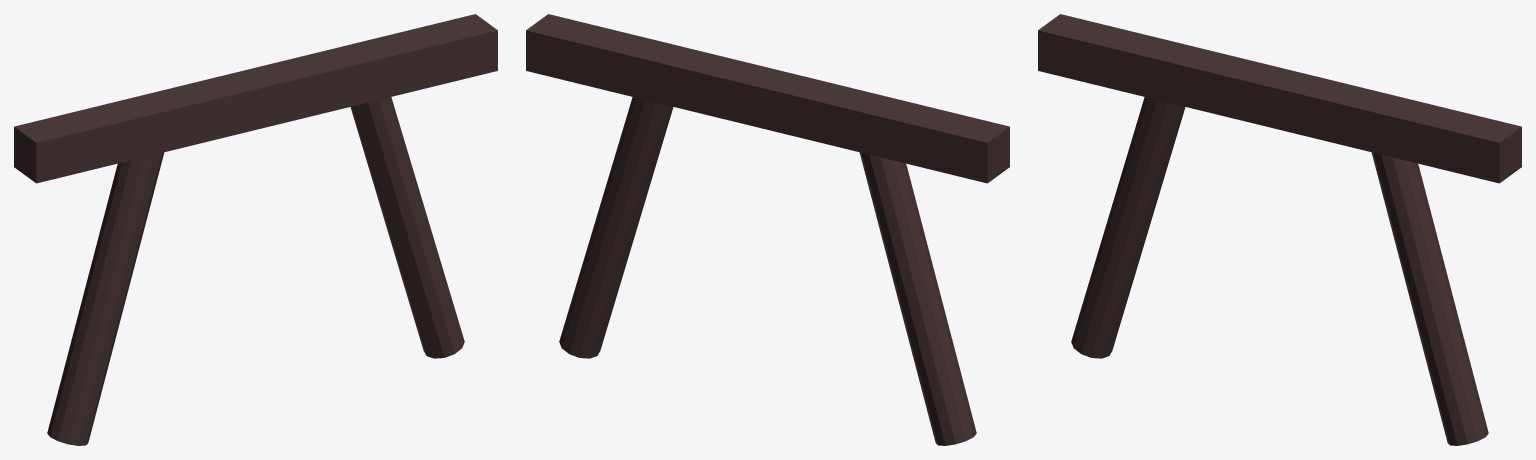
Rendered from Mine_Truss.fbx.
The picture shows the model from 3 angles, left to right: view 1: azimuth 30°, elevation 25°; view 2: azimuth 150°, elevation 25°; view 3: azimuth 330°, elevation 25°; orthographic projection.
Parts seen in each view (by area): view 1: Truss; view 2: Truss; view 3: Truss.
Boxes of the visible parts, x1=… form: Truss: x1=14, y1=14, x2=497, y2=445; Truss: x1=526, y1=14, x2=1009, y2=445; Truss: x1=1038, y1=14, x2=1521, y2=445.
Size of the model in its own units: 11.92 by 7.88 by 1.
